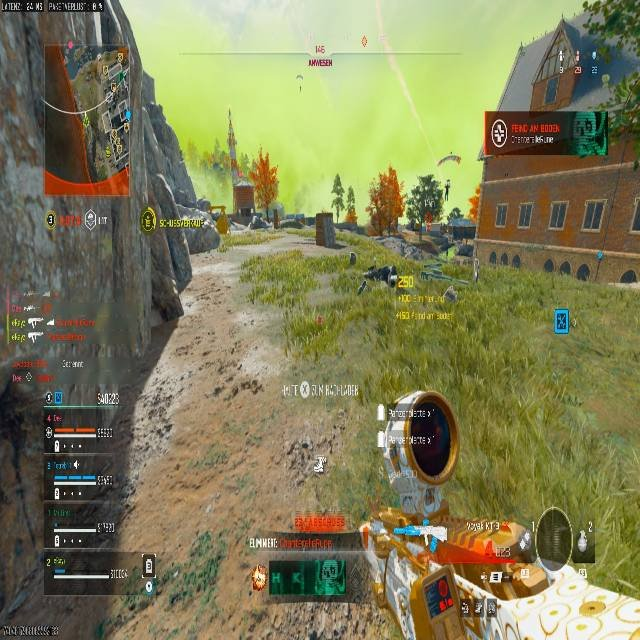head: (451, 207, 461, 217)
